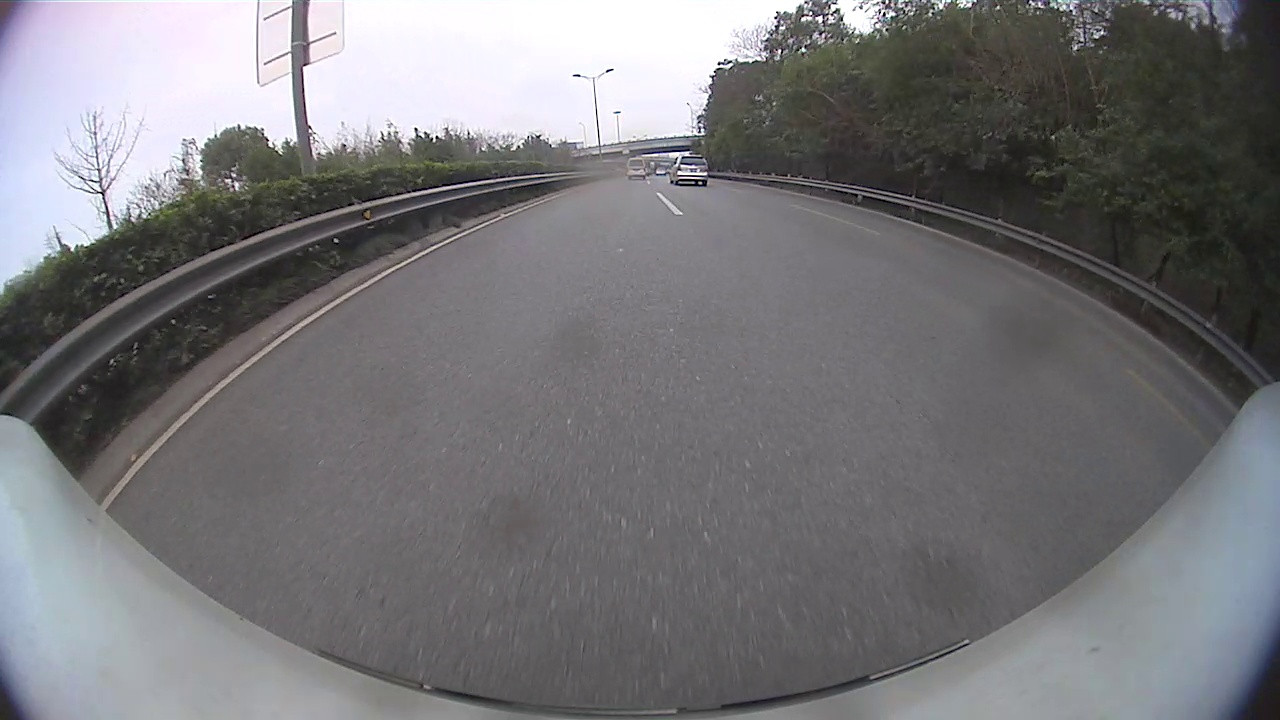car: (667, 154, 709, 186), (625, 156, 647, 180)
